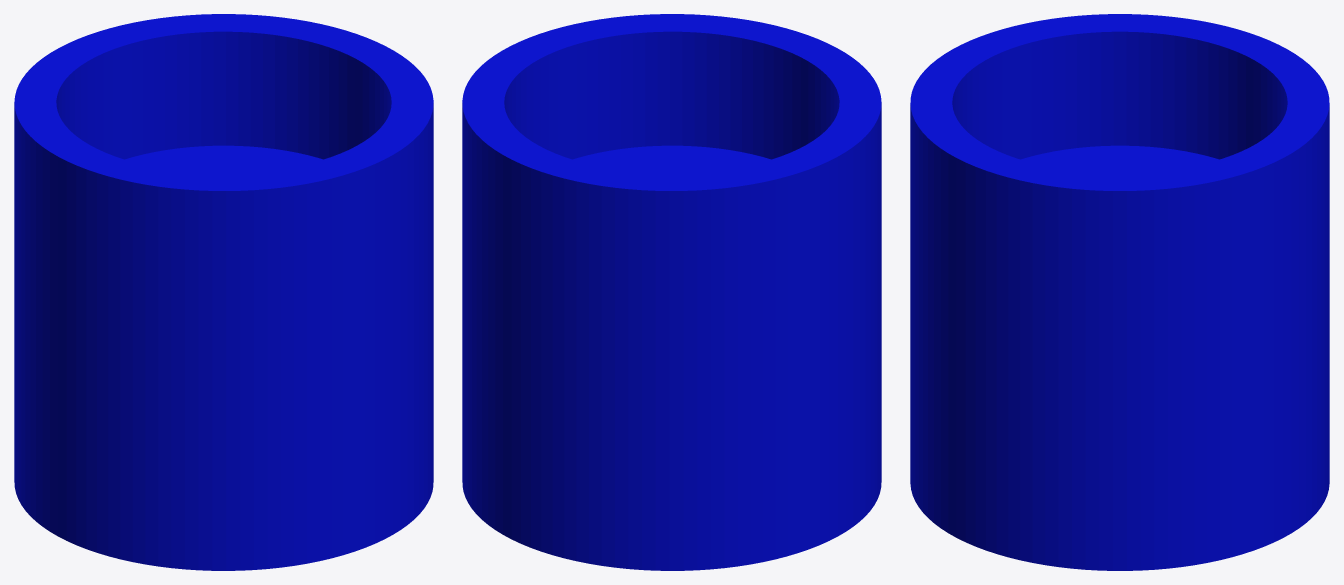
Rendered from BaseCylinder.dae.
The picture shows the model from 3 angles, left to right: view 1: azimuth 30°, elevation 25°; view 2: azimuth 150°, elevation 25°; view 3: azimuth 270°, elevation 25°; orthographic projection.
Visible parts, largest first — view 1: node; view 2: node; view 3: node.
Boxes of the visible parts, x1,y1,x2,y2 form: node: (14, 14, 433, 570); node: (462, 14, 881, 570); node: (910, 14, 1329, 570).
Size of the model in its own units: 0.05 by 0.05 by 0.05.
